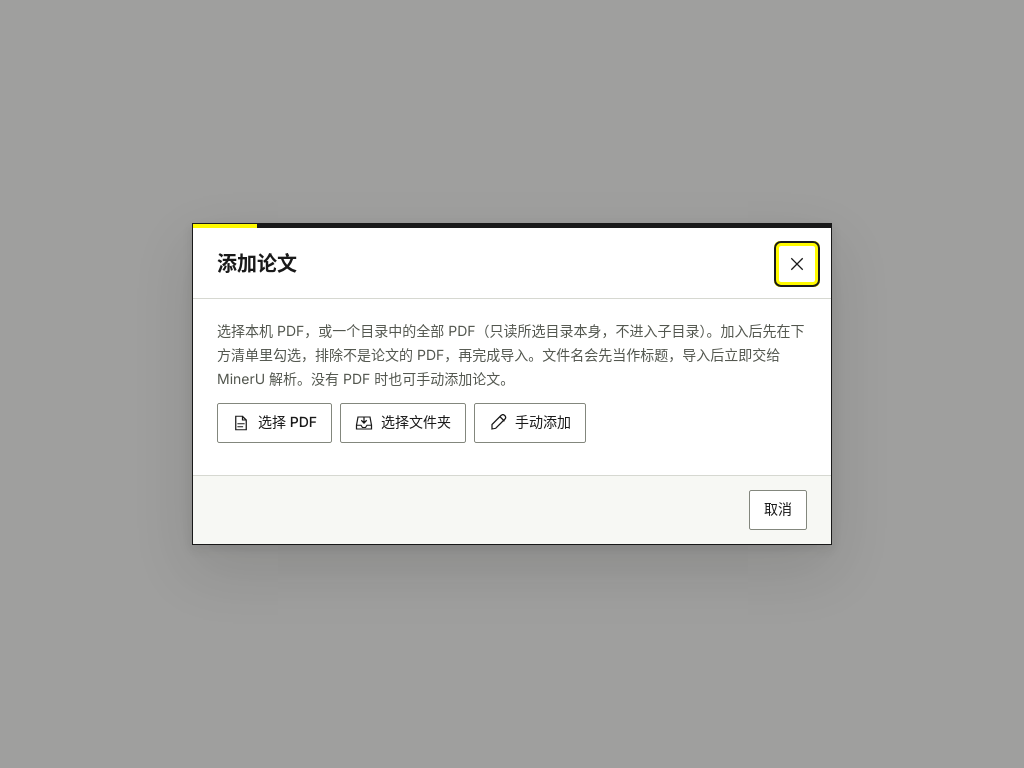
Test: PaperDialog · 单篇导入 › 选择多个 PDF 后列表显示文件名，导入按钮计数 2
The width and height of the screenshot is (1024, 768).
Click the button "选择 PDF" at [275, 423], box [217,403,332,443]
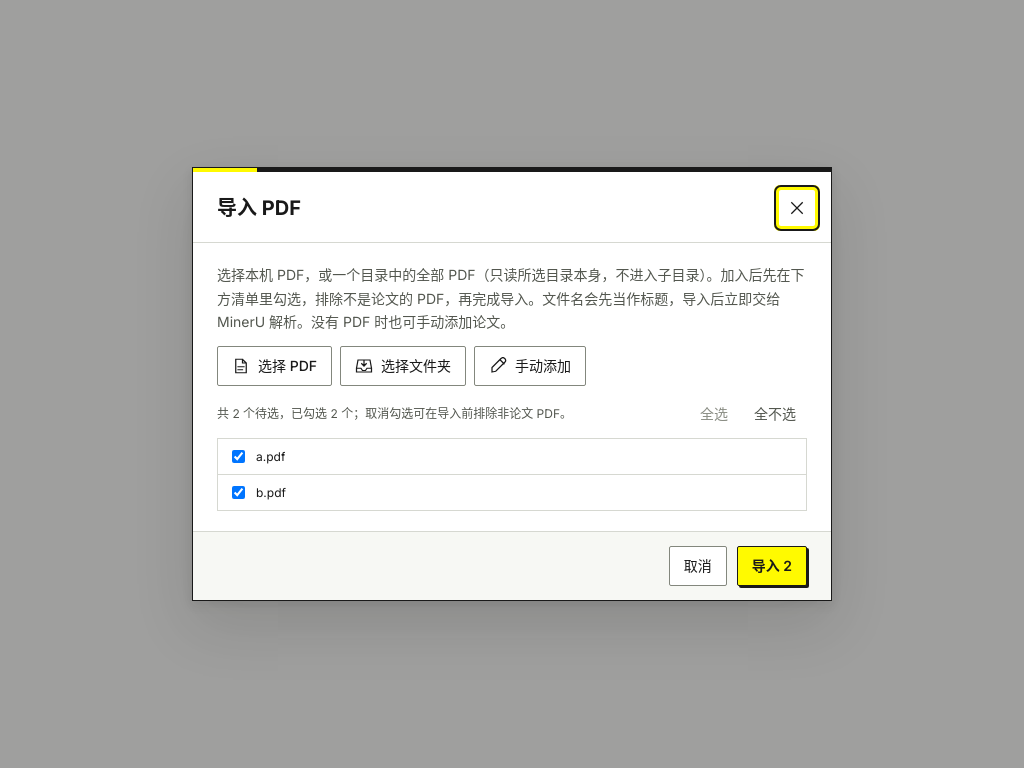
expect the text "a.pdf" is shown: met, box [256,448,285,466]
expect the text "b.pdf" is shown: met, box [256,484,286,502]
expect the button "导入 2" is enabled: met, box [737,546,807,586]
